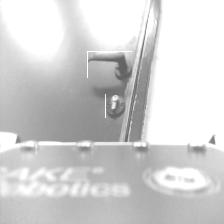Door Handle: (87, 51, 132, 78)
Lock: (105, 94, 126, 118)
